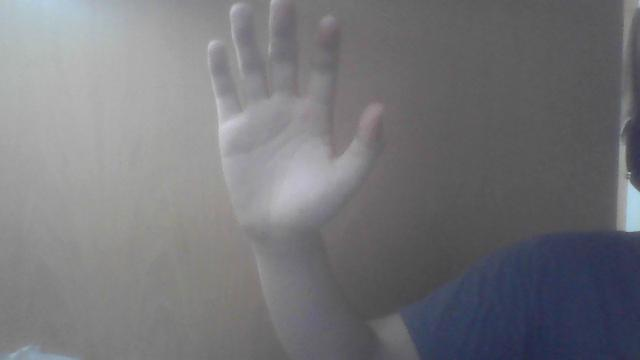Stop: (205, 1, 383, 238)
